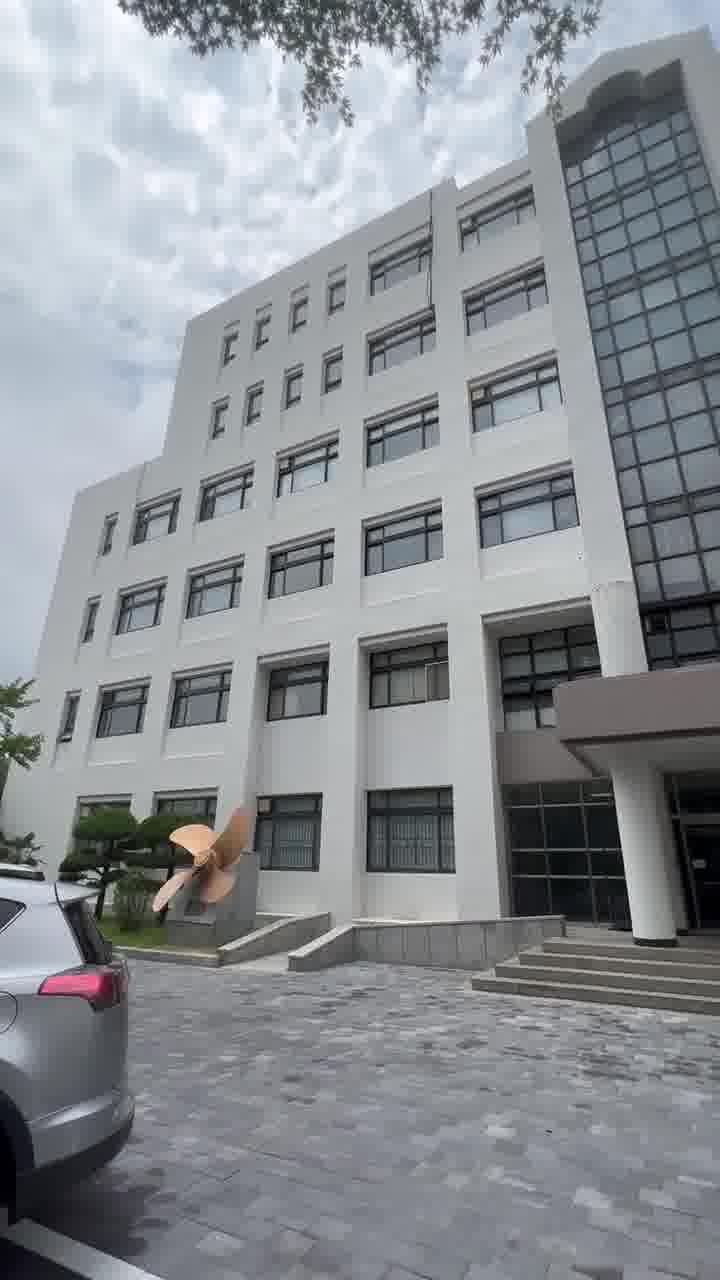building: (170, 110, 720, 950)
